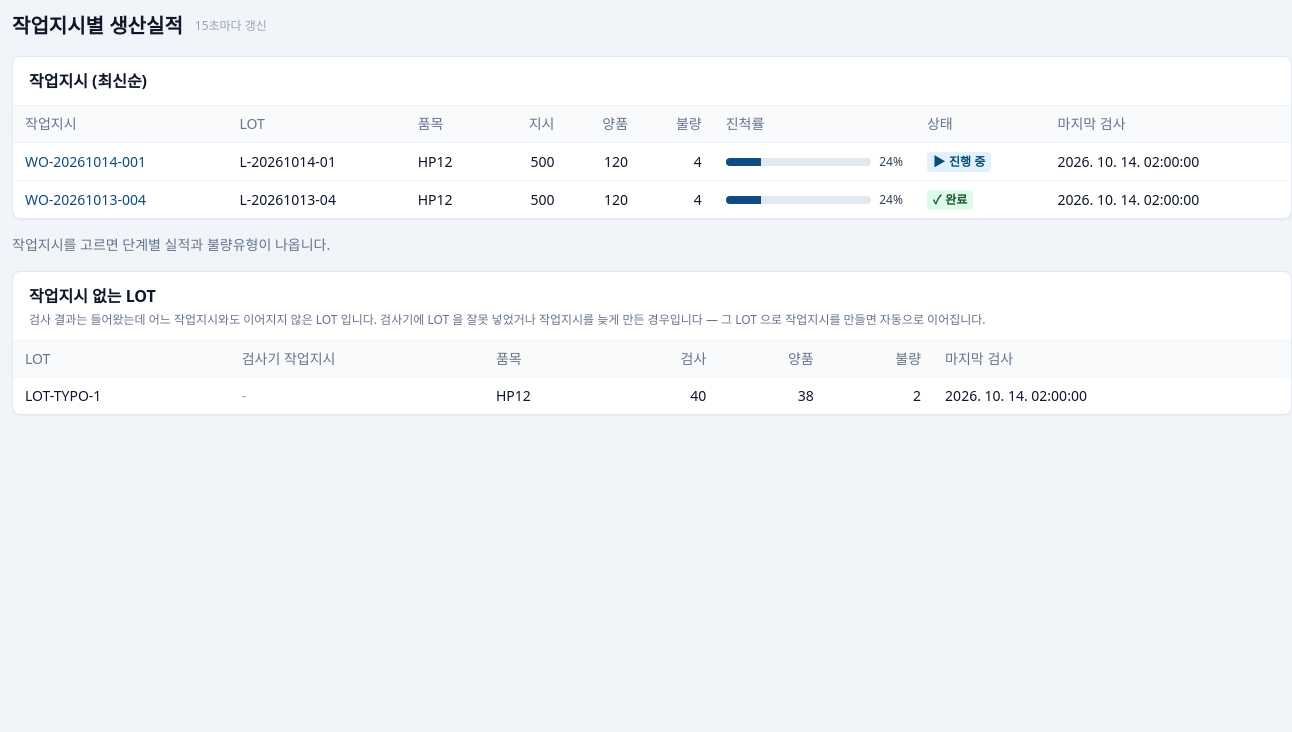
Test case: MesProductionPage › 크레이트 개수 확인이 있으면 양품 출처는 크레이트, 판 수·불일치 판 표시
The image size is (1292, 732).
Click the row with test id "prod-row-2": (652, 199) 13,180 -> 1291,218
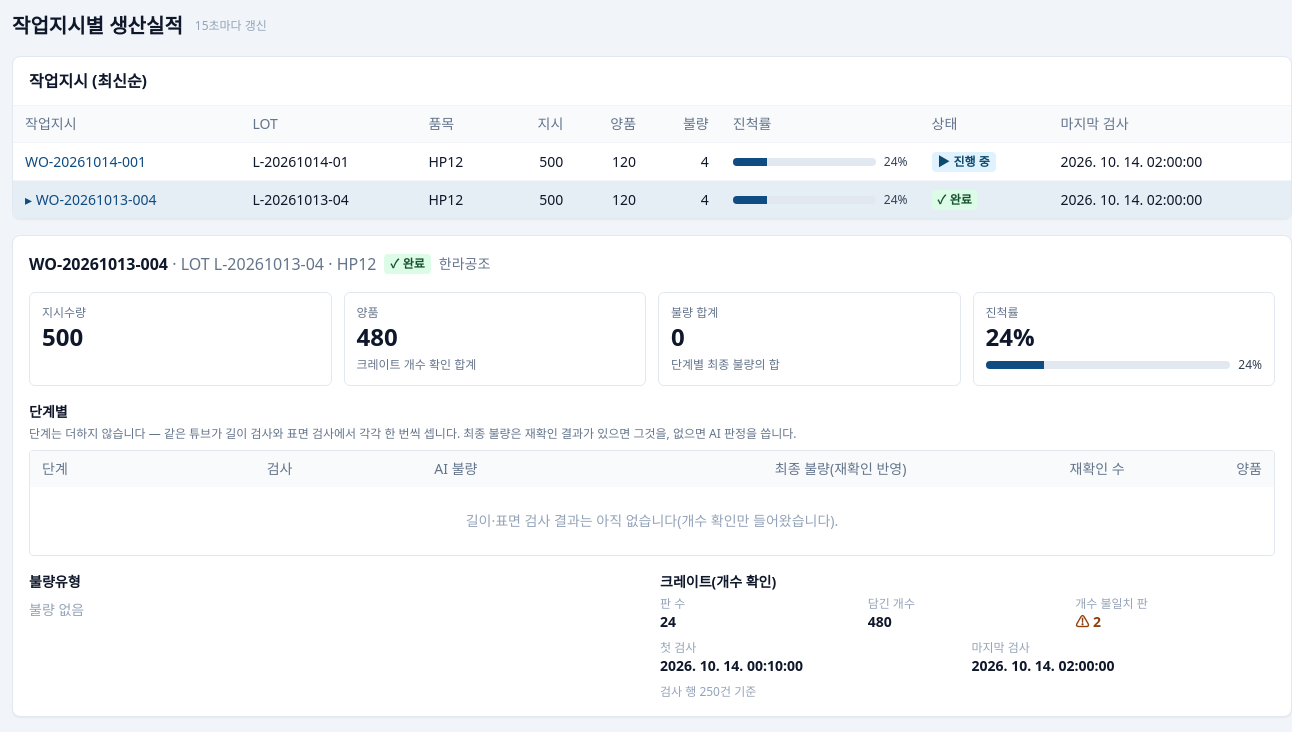
Now the text with test id "good-source" reads "크레이트 개수 확인 합계", box 356,356 -> 476,373
Now the element with test id "crate-info" shows "24", box 660,612 -> 676,631
Now the element with test id "crate-info" shows "480", box 868,612 -> 892,631
